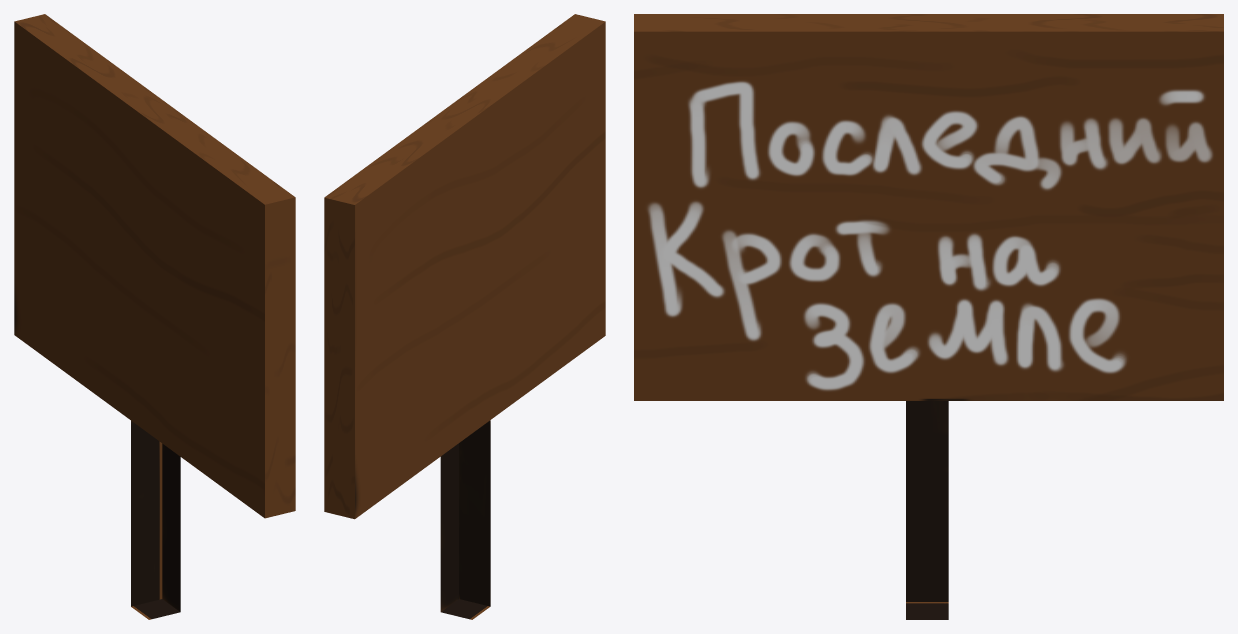
File: signMole.glb
3 views of the same model, side by side, from view 1: azimuth 30°, elevation 25°; view 2: azimuth 150°, elevation 25°; view 3: azimuth 270°, elevation 25° (orthographic). The views are drawn at different scales.
Visible parts, largest first — view 1: Cube; view 2: Cube; view 3: Cube.
Boxes of the visible parts, x1,y1,x2,y2 form: Cube: (14, 14, 295, 619); Cube: (324, 14, 605, 619); Cube: (634, 14, 1223, 619).
Bounding box in the file's own units: 0.3 × 4.55 × 4.13.
Materials: 1 (1 with a texture image).
